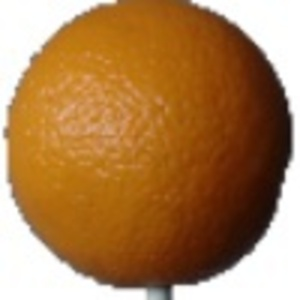laranja: (4, 3, 298, 297)
